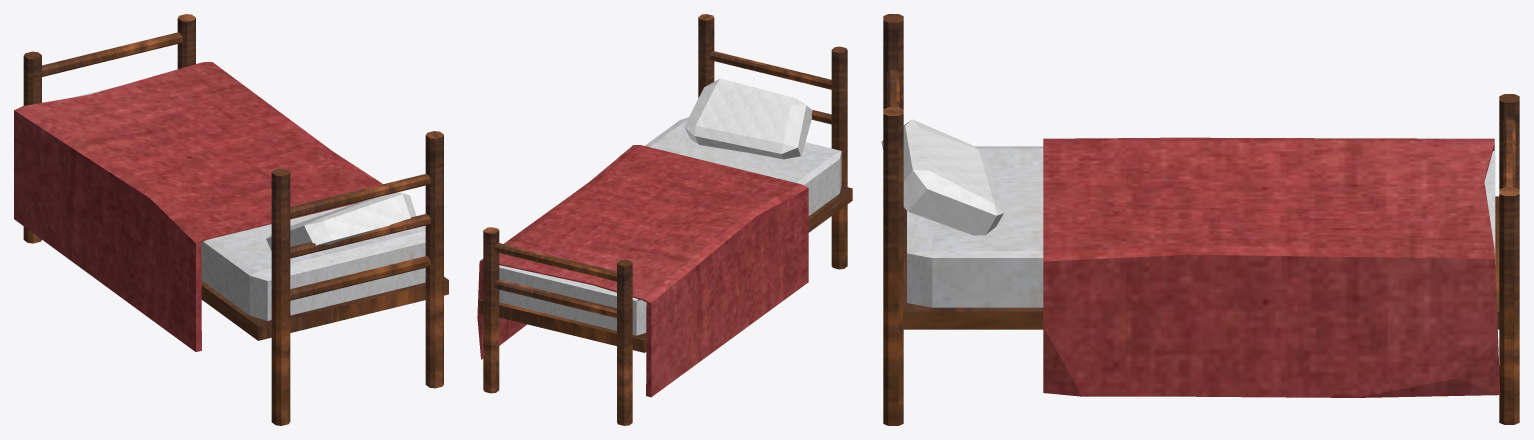
The model's file is bed.fbx.
3 renders of one model, left to right at view 1: azimuth 30°, elevation 25°; view 2: azimuth 150°, elevation 25°; view 3: azimuth 270°, elevation 25°, orthographic. The views are drawn at different scales.
Parts seen in each view (by area): view 1: blanket, bed, pillow.001; view 2: blanket, bed, pillow.001; view 3: blanket, bed, pillow.001.
Boxes of the visible parts, x1,y1,x2,y2 form: blanket: (14,62,382,351); bed: (23,14,448,425); pillow.001: (266,192,416,250); blanket: (477,145,808,397); bed: (479,14,852,425); pillow.001: (684,78,812,159); blanket: (1043,137,1500,397); bed: (883,14,1519,425); pillow.001: (881,119,1004,235).
Size of the model in its own units: 513 by 605 by 1128.
